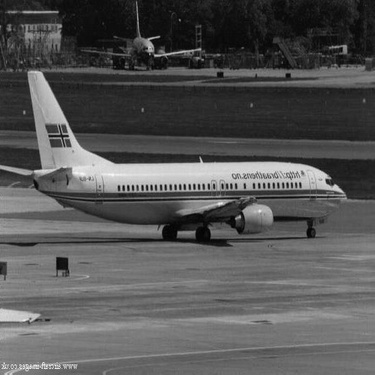airplane: (1, 55, 353, 263), (61, 5, 211, 75), (3, 290, 48, 334)
